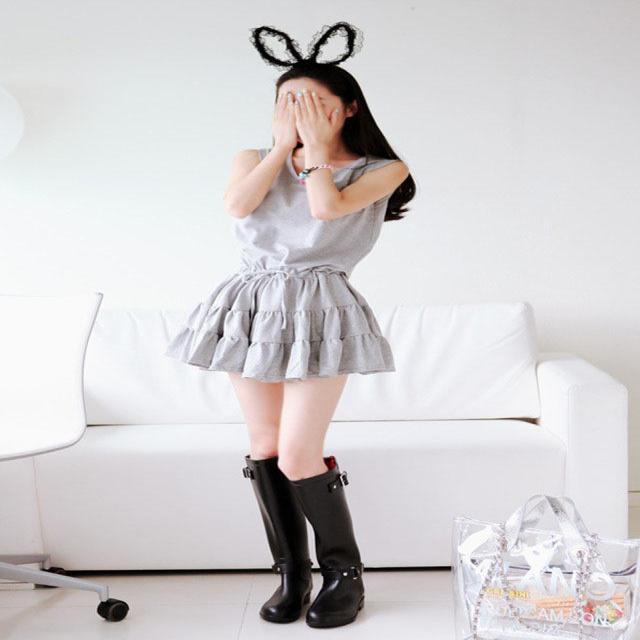vest dress: (166, 150, 392, 381)
